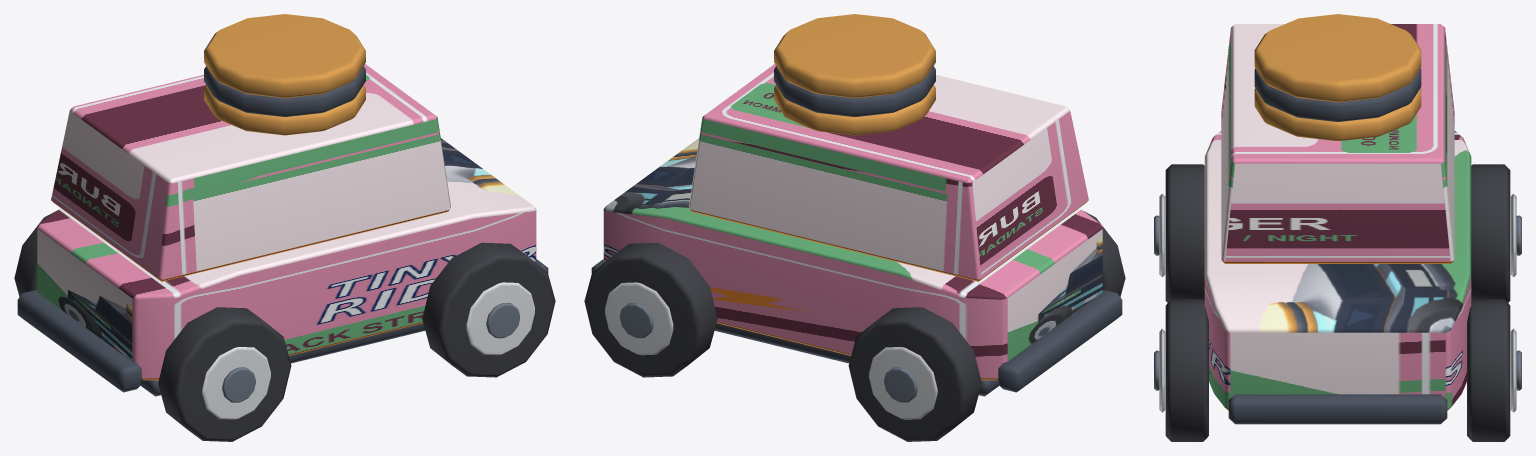
The picture shows the model from 3 angles, left to right: view 1: azimuth 30°, elevation 25°; view 2: azimuth 150°, elevation 25°; view 3: azimuth 270°, elevation 25°; orthographic projection. The views are drawn at different scales.
Parts seen in each view (by area): view 1: SS-03_cabin, SS-03_connected_shell, burger layer.002, Tire, Tire.002, front bumper, burger layer.001, burger layer, Rim, Rim.002, underbody, Tire.001 (+2 smaller); view 2: SS-03_cabin, SS-03_connected_shell, burger layer.002, Tire.001, Tire.003, front bumper, burger layer.001, burger layer, Rim.001, Rim.003, underbody, Tire (+2 smaller); view 3: SS-03_connected_shell, SS-03_cabin, burger layer.002, rear bumper, Tire.002, Tire.003, Tire, Tire.001, burger layer.001, burger layer, Rim, Rim.001 (+2 smaller).
Boxes of the visible parts, left/top/right/bottom form: SS-03_cabin: left=51, top=64, right=450, bottom=281; SS-03_connected_shell: left=37, top=138, right=536, bottom=380; burger layer.002: left=204, top=14, right=365, bottom=98; Tire: left=158, top=307, right=291, bottom=441; Tire.002: left=422, top=242, right=555, bottom=377; front bumper: left=17, top=290, right=142, bottom=392; burger layer.001: left=204, top=66, right=365, bottom=116; burger layer: left=204, top=85, right=365, bottom=135; Rim: left=202, top=347, right=270, bottom=419; Rim.002: left=466, top=282, right=534, bottom=355; underbody: left=140, top=323, right=425, bottom=396; Tire.001: left=14, top=211, right=55, bottom=296; SS-03_cabin: left=689, top=64, right=1088, bottom=281; SS-03_connected_shell: left=603, top=138, right=1102, bottom=380; burger layer.002: left=774, top=14, right=935, bottom=98; Tire.001: left=848, top=307, right=981, bottom=441; Tire.003: left=584, top=242, right=717, bottom=377; front bumper: left=997, top=290, right=1122, bottom=392; burger layer.001: left=774, top=66, right=935, bottom=116; burger layer: left=774, top=85, right=935, bottom=135; Rim.001: left=869, top=347, right=937, bottom=419; Rim.003: left=605, top=282, right=673, bottom=355; underbody: left=714, top=323, right=999, bottom=396; Tire: left=1084, top=211, right=1125, bottom=296; SS-03_connected_shell: left=1204, top=131, right=1471, bottom=410; SS-03_cabin: left=1221, top=24, right=1454, bottom=263; burger layer.002: left=1254, top=14, right=1421, bottom=102; rear bumper: left=1228, top=394, right=1447, bottom=424; Tire.002: left=1165, top=299, right=1208, bottom=441; Tire.003: left=1467, top=299, right=1510, bottom=441; Tire: left=1165, top=164, right=1204, bottom=302; Tire.001: left=1471, top=164, right=1510, bottom=302; burger layer.001: left=1254, top=68, right=1421, bottom=121; burger layer: left=1254, top=88, right=1421, bottom=140; Rim: left=1159, top=193, right=1165, bottom=277; Rim.001: left=1510, top=193, right=1516, bottom=277.
Size of the model in its own units: 314 by 213 by 221.
